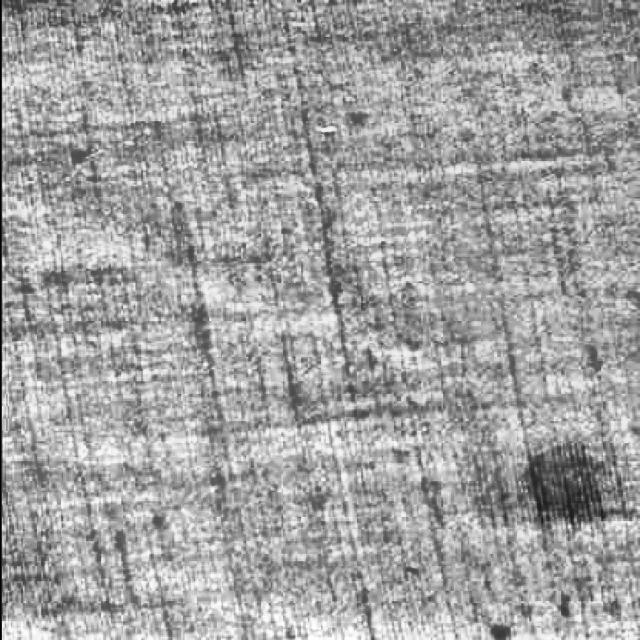oil_spot: (509, 426, 640, 542)
